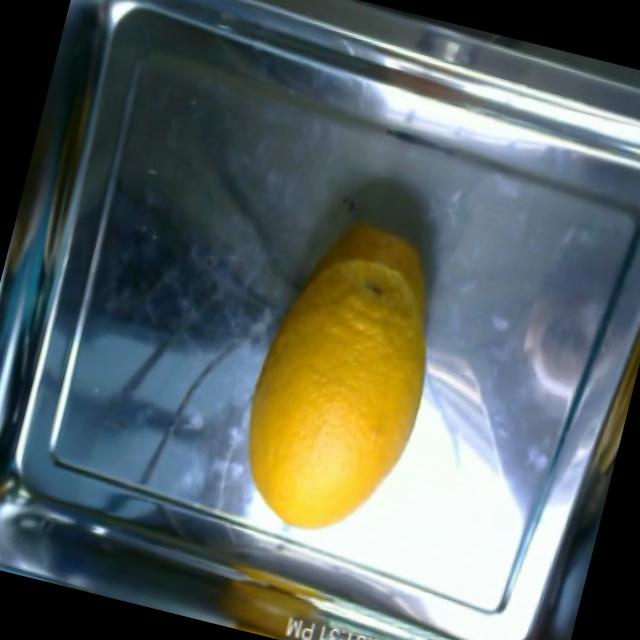Fruit: (218, 328, 431, 562)
